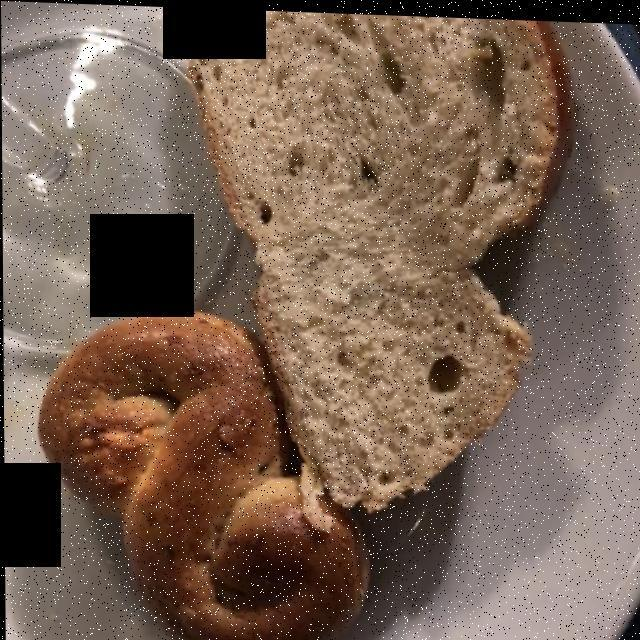bread: (42, 37, 565, 625)
